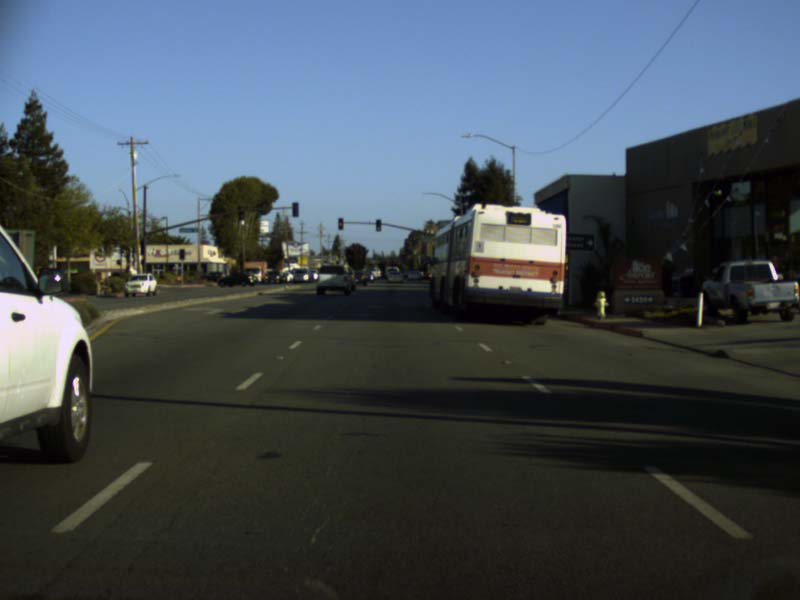Green: (375, 219, 380, 230)
Yellow: (337, 217, 343, 230)
